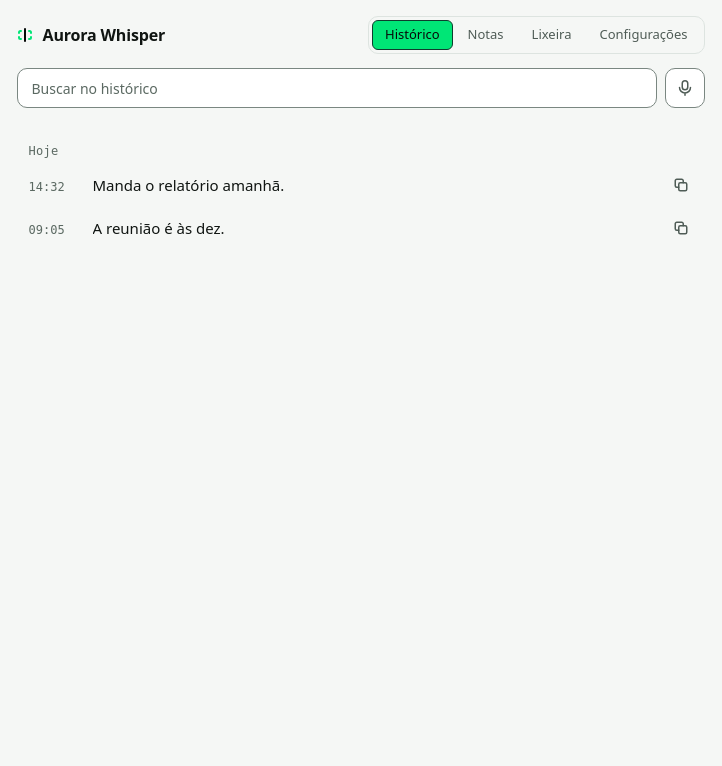
o ditado que chega › o Copiar leva o texto do ditado (a área de transferência é um dublê)
Expected: the button "14:32 Manda o relatório amanhã." is shown, x1=16 y1=164 x2=704 y2=206
Click the button named "Ditar": (684, 88) x1=664 y1=68 x2=704 y2=108
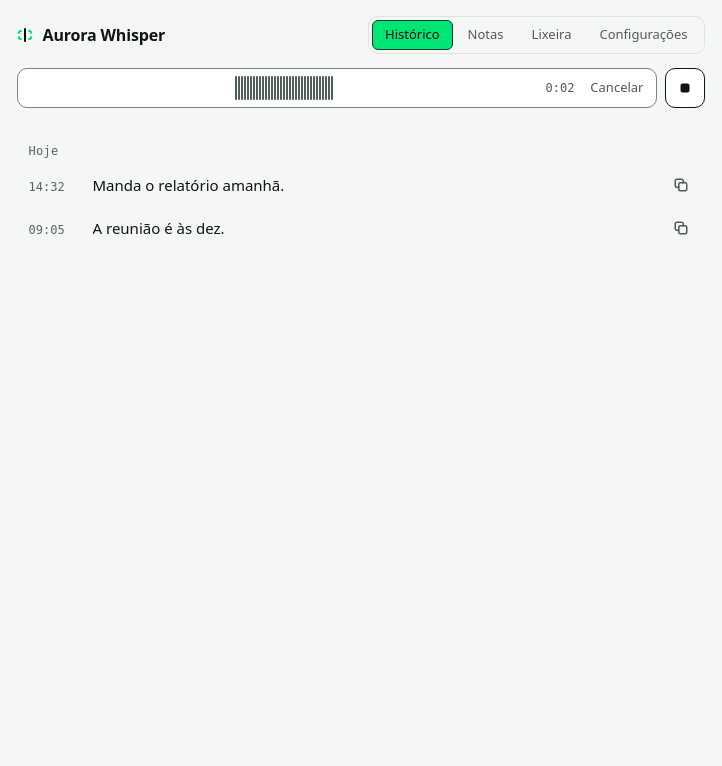
Result: the button named "Parar e enviar" is shown
Click the button named "Parar e enviar": (684, 88) x1=664 y1=68 x2=704 y2=108
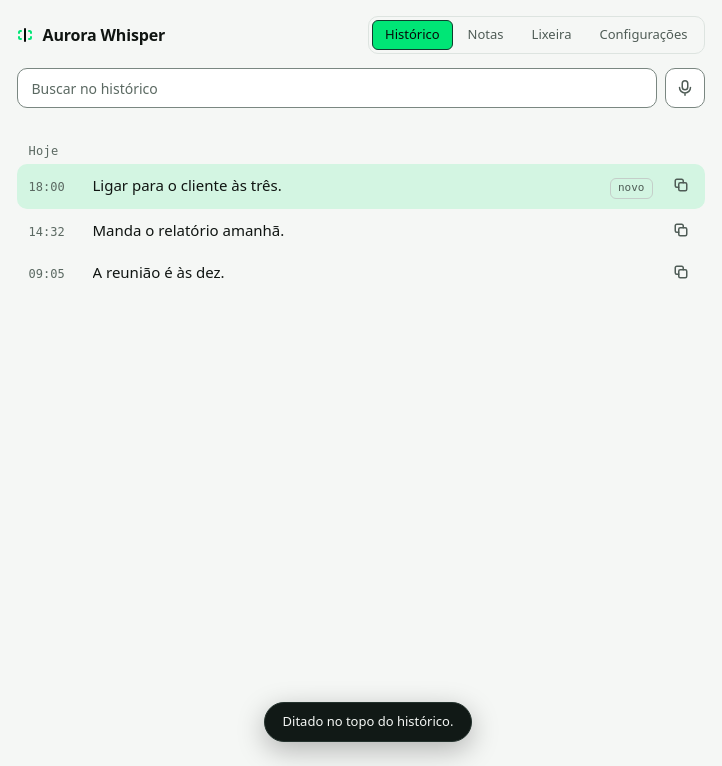
Result: the text "Ligar para o cliente às três." is shown at x1=92 y1=175 x2=282 y2=195
Click the button named "Copiar o ditado das": (680, 185) x1=664 y1=169 x2=696 y2=201
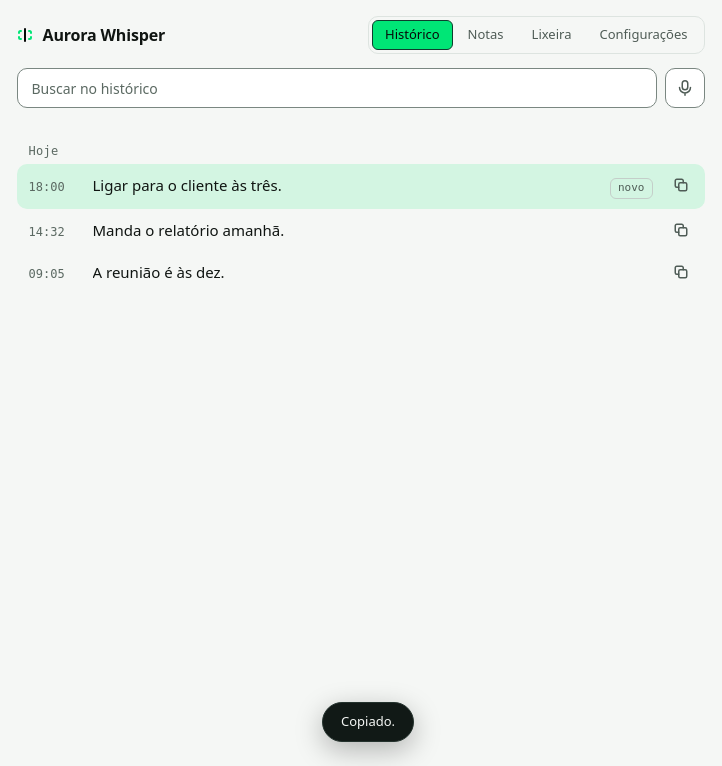
Result: the message with class "aviso-regiao" reads "Copiado." at x1=341 y1=712 x2=395 y2=730
